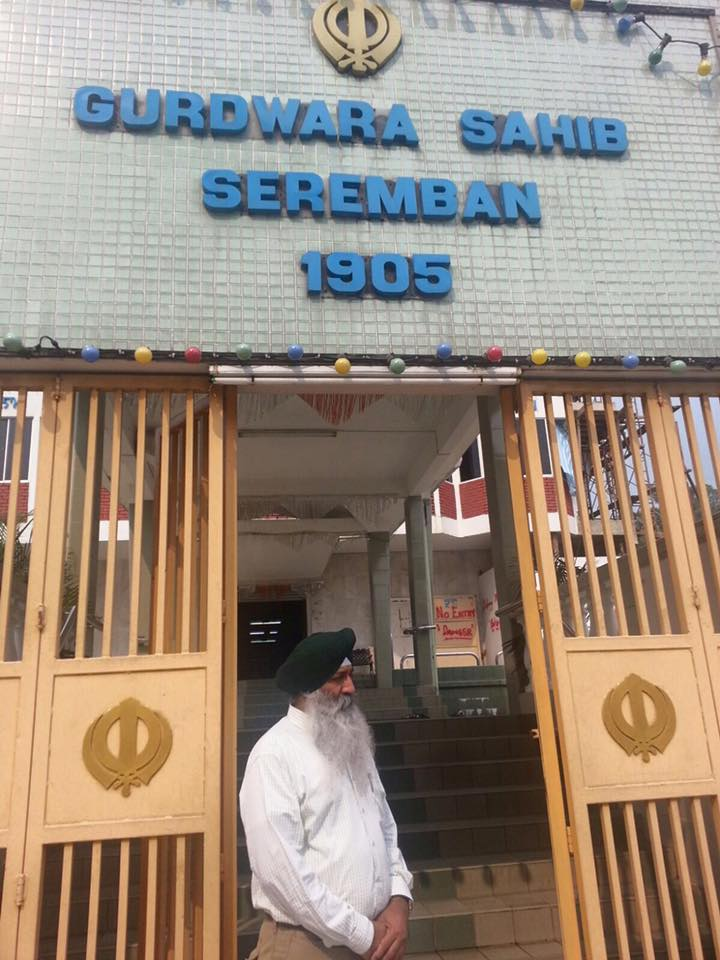Gurdwara: (10, 7, 707, 788)
